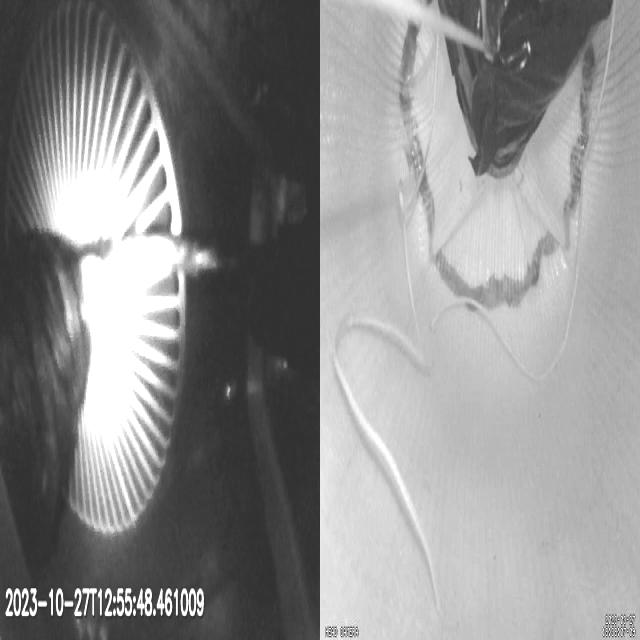red-circle: (397, 21, 598, 309)
